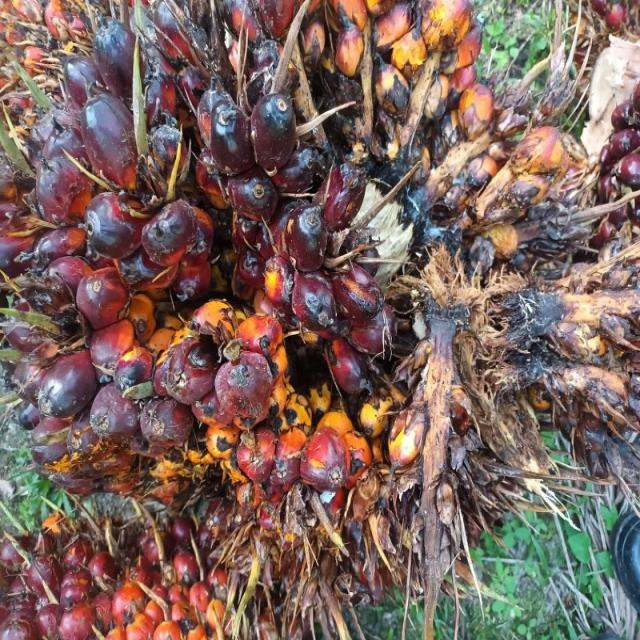fraksi 1: (1, 2, 606, 550)
